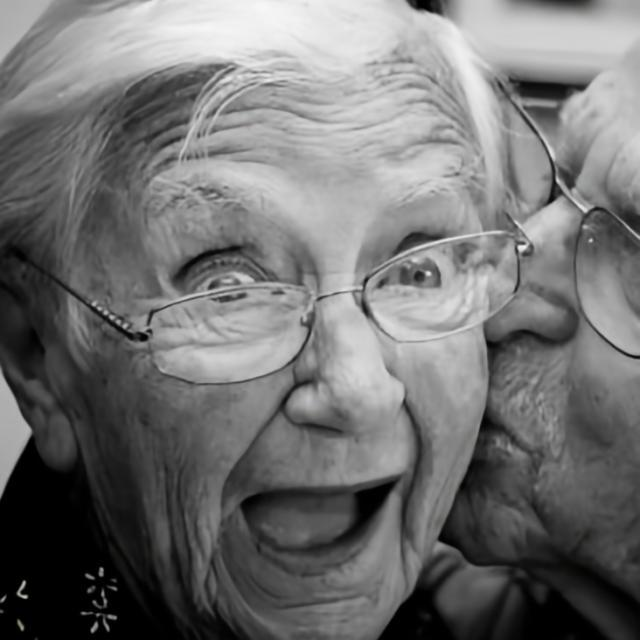fear: (75, 49, 490, 640)
